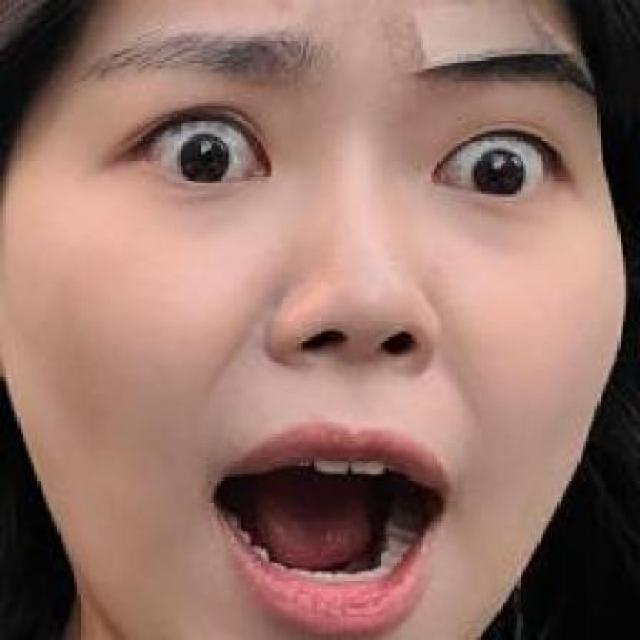angry: (98, 23, 580, 594)
